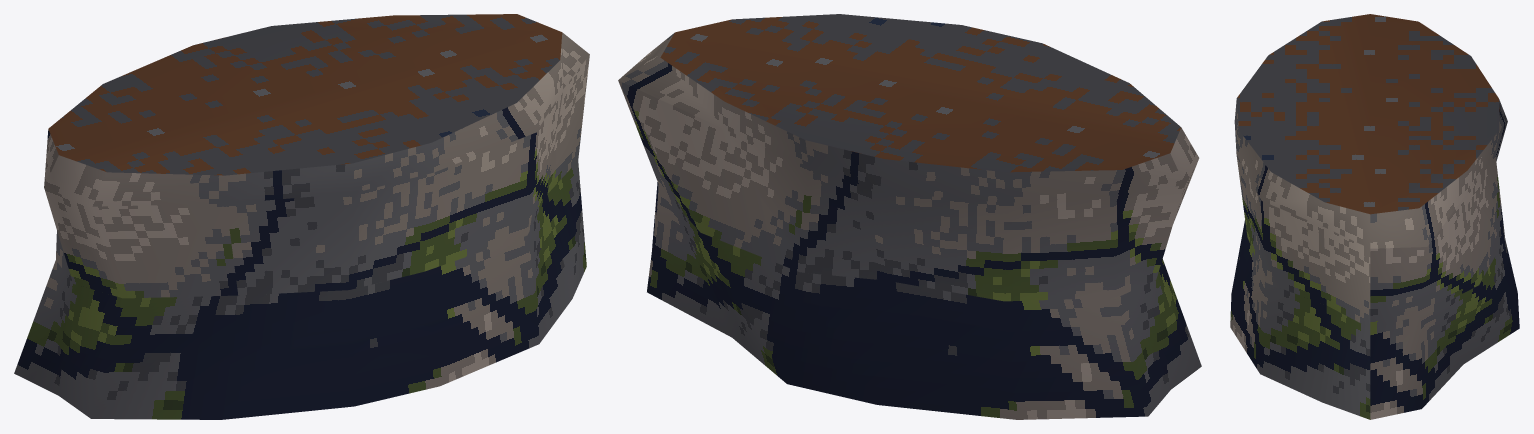
Rendered from cave.ledge.glb.
3 renders of one model, left to right at view 1: azimuth 30°, elevation 25°; view 2: azimuth 150°, elevation 25°; view 3: azimuth 270°, elevation 25°, orthographic. The views are drawn at different scales.
Parts seen in each view (by area): view 1: kit_ledge; view 2: kit_ledge; view 3: kit_ledge.
Boxes of the visible parts, x1,y1,x2,y2 form: kit_ledge: (14,14,589,419); kit_ledge: (618,14,1201,419); kit_ledge: (1230,14,1519,419).
Bounding box in the file's own units: 4.28 × 1.8 × 2.41.
Materials: 2 (2 with a texture image).
